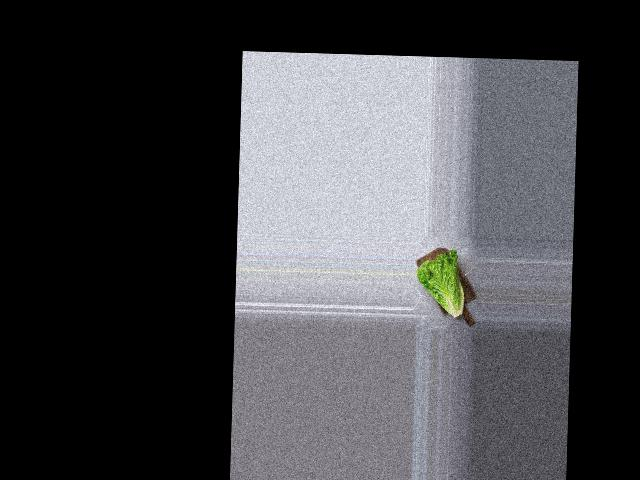lettuce: (416, 248, 473, 320)
